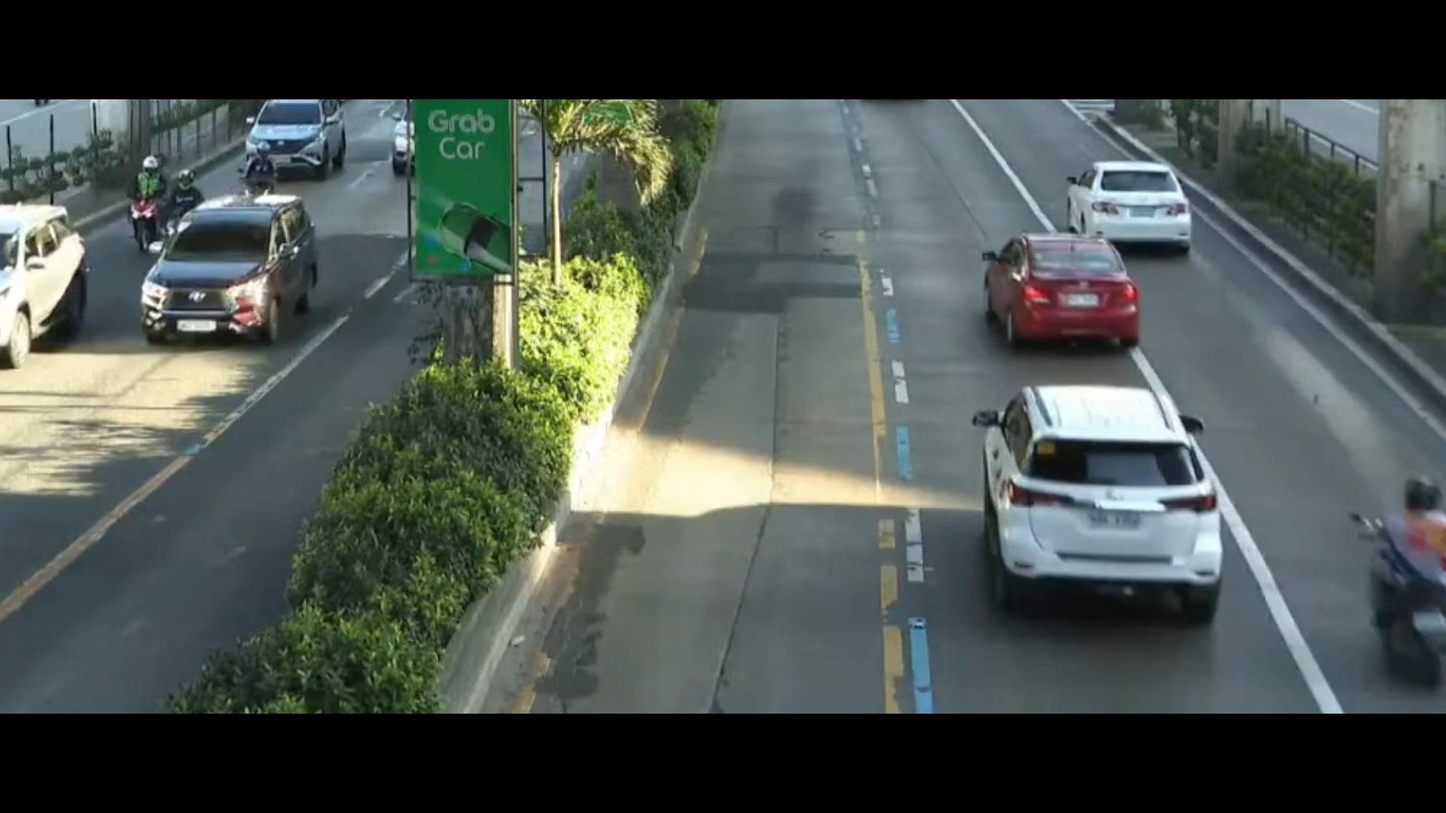Motorcycle: (1346, 467, 1446, 692), (108, 142, 157, 251), (242, 138, 298, 198), (167, 170, 217, 229)
SUV: (943, 373, 1247, 638), (131, 179, 343, 362), (0, 185, 93, 384), (239, 96, 349, 177)
Sedan: (949, 224, 1156, 358), (1069, 149, 1200, 263)
